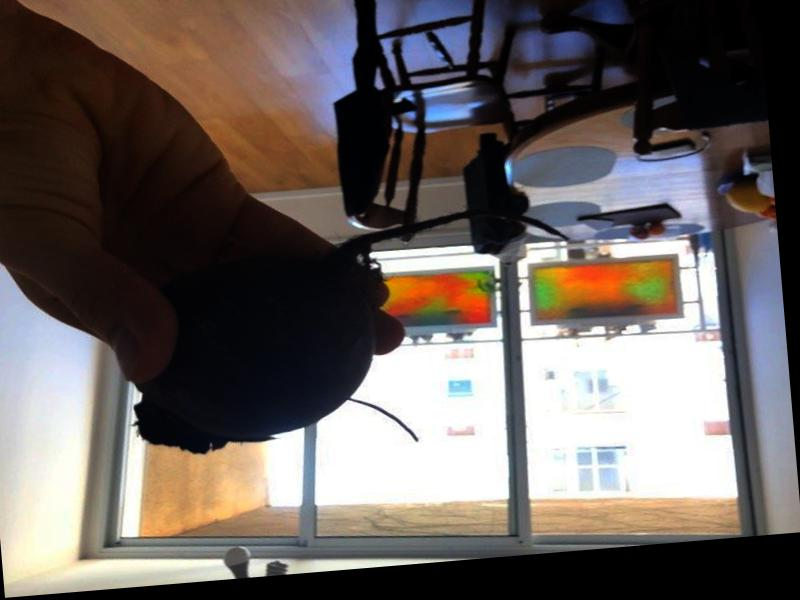Beet: (121, 203, 584, 461)
